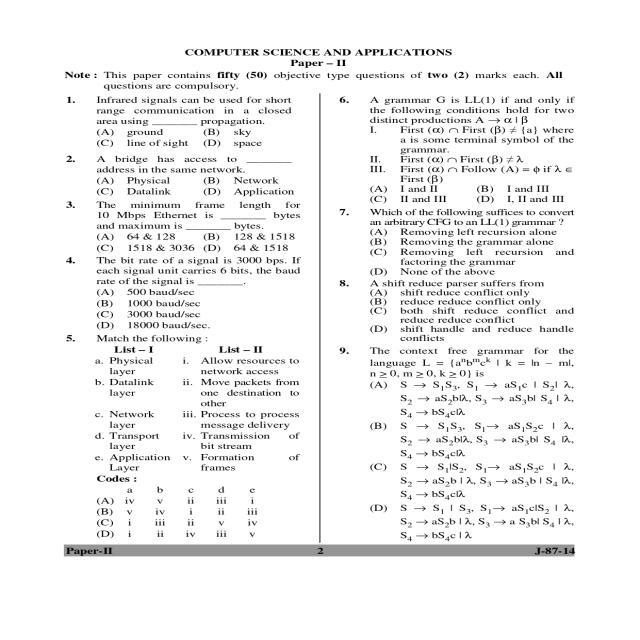Answer_Block: (330, 381, 580, 544), (52, 473, 316, 542), (331, 289, 582, 343), (330, 226, 582, 278), (54, 286, 316, 330), (52, 174, 316, 197), (55, 127, 316, 148), (53, 232, 314, 252), (332, 185, 582, 204)
Instruction: (58, 67, 580, 93)
Question_Answer_Block: (53, 333, 317, 543), (330, 345, 580, 542), (330, 92, 582, 204), (54, 256, 316, 330), (330, 206, 582, 278), (330, 279, 582, 343), (56, 92, 316, 148), (52, 200, 316, 252), (52, 152, 316, 197)
Question_Block: (52, 333, 316, 473), (330, 91, 582, 186), (330, 346, 582, 380), (55, 94, 317, 126), (53, 200, 314, 232), (54, 256, 316, 287), (52, 152, 316, 174), (330, 206, 582, 227), (330, 278, 582, 290)
Question_Paper_Area: (54, 91, 316, 543), (330, 92, 582, 543)
